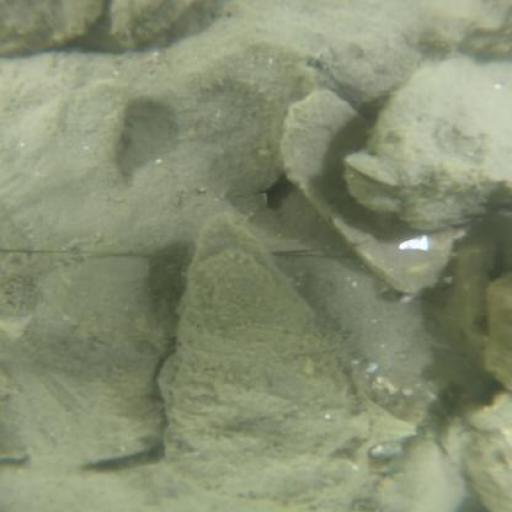Oyster-Closed: (7, 260, 171, 462), (351, 58, 506, 230), (180, 6, 419, 101), (352, 438, 459, 508), (448, 421, 512, 506), (5, 1, 105, 55), (486, 275, 507, 385)
Oyster-Open: (169, 232, 360, 488), (107, 1, 199, 50)
